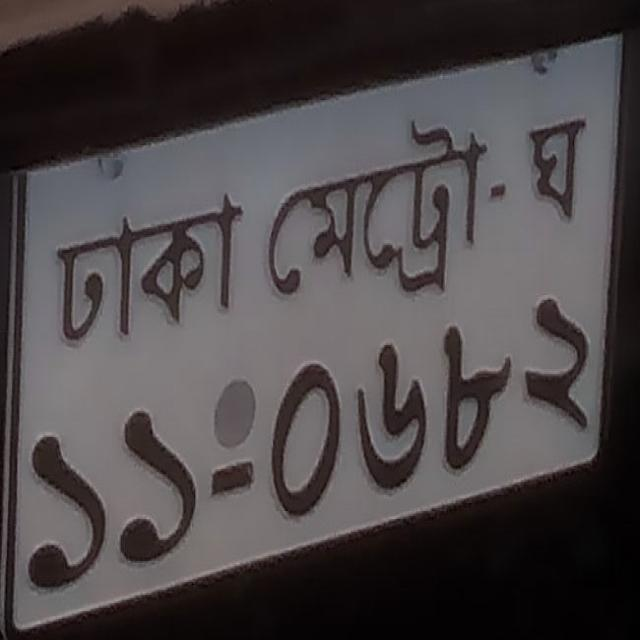cng: (266, 118, 488, 296)
numberplate: (1, 22, 636, 635)
